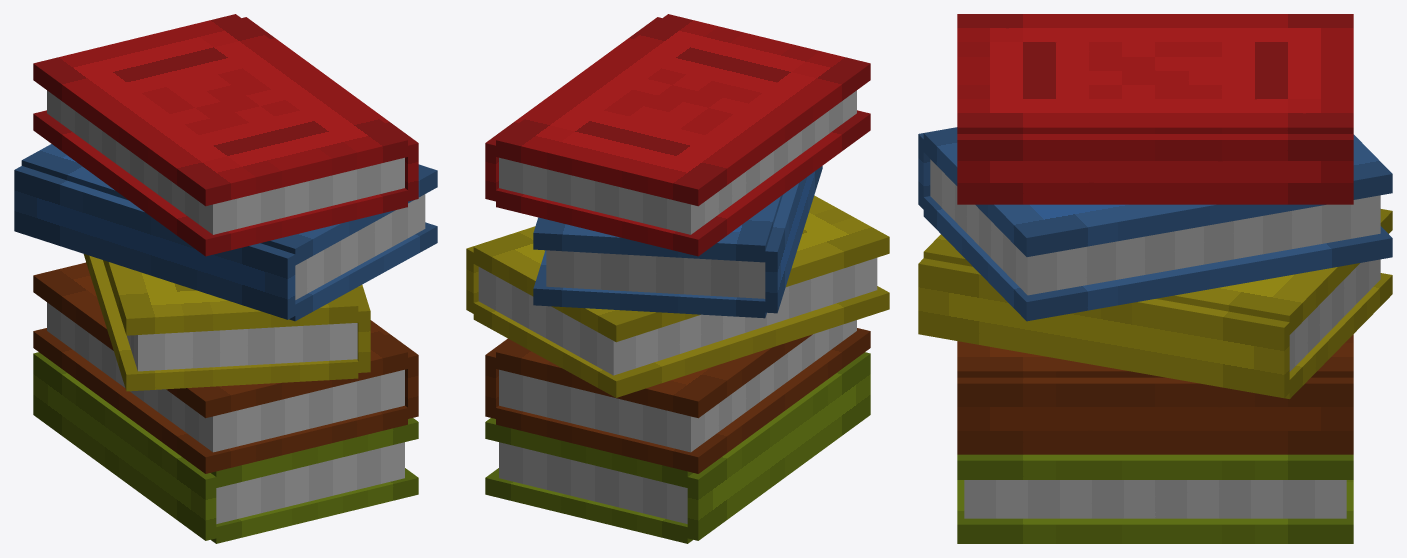
File: interior-books-minecraft.obj
The picture shows the model from 3 angles, left to right: view 1: azimuth 30°, elevation 25°; view 2: azimuth 150°, elevation 25°; view 3: azimuth 270°, elevation 25°; orthographic projection. The views are drawn at different scales.
Visible parts, largest first — view 1: obj21, obj26, obj74, obj65, obj107, obj95, obj17, obj41, obj69, obj104, obj59, obj14 (+30 smaller); view 2: obj21, obj74, obj42, obj62, obj108, obj96, obj18, obj69, obj56, obj66, obj104, obj36 (+30 smaller); view 3: obj21, obj97, obj1, obj49, obj91, obj37, obj79, obj85, obj31, obj43, obj45, obj69 (+17 smaller).
Part boxes in pixels (<box>): obj21: <box>33,14,407,189</box>; obj26: <box>14,170,287,319</box>; obj74: <box>33,354,205,540</box>; obj65: <box>138,323,357,371</box>; obj107: <box>213,369,404,452</box>; obj95: <box>216,442,404,523</box>; obj17: <box>213,157,404,234</box>; obj41: <box>295,194,425,299</box>; obj69: <box>109,262,358,318</box>; obj104: <box>47,302,212,451</box>; obj59: <box>126,362,358,391</box>; obj14: <box>47,90,212,234</box>; obj21: <box>496,14,870,189</box>; obj74: <box>698,354,870,540</box>; obj42: <box>546,250,765,298</box>; obj62: <box>613,258,877,375</box>; obj108: <box>499,369,690,452</box>; obj96: <box>499,442,687,523</box>; obj18: <box>499,157,690,234</box>; obj69: <box>474,195,889,325</box>; obj56: <box>616,293,889,397</box>; obj66: <box>478,267,613,375</box>; obj104: <box>691,320,856,451</box>; obj36: <box>533,288,765,318</box>; obj21: <box>957,14,1353,127</box>; obj97: <box>957,383,1353,454</box>; obj1: <box>957,140,1353,203</box>; obj49: <box>918,263,1284,398</box>; obj91: <box>964,480,1346,518</box>; obj37: <box>1027,195,1380,295</box>; obj79: <box>957,460,1353,479</box>; obj85: <box>957,524,1353,543</box>; obj31: <box>1026,238,1392,321</box>; obj43: <box>1026,174,1392,256</box>; obj45: <box>924,127,1392,237</box>; obj69: <box>924,209,1391,315</box>.
Size of the model in its own units: 14.6 by 16 by 16.76.
Materials: 1 (1 with a texture image).
